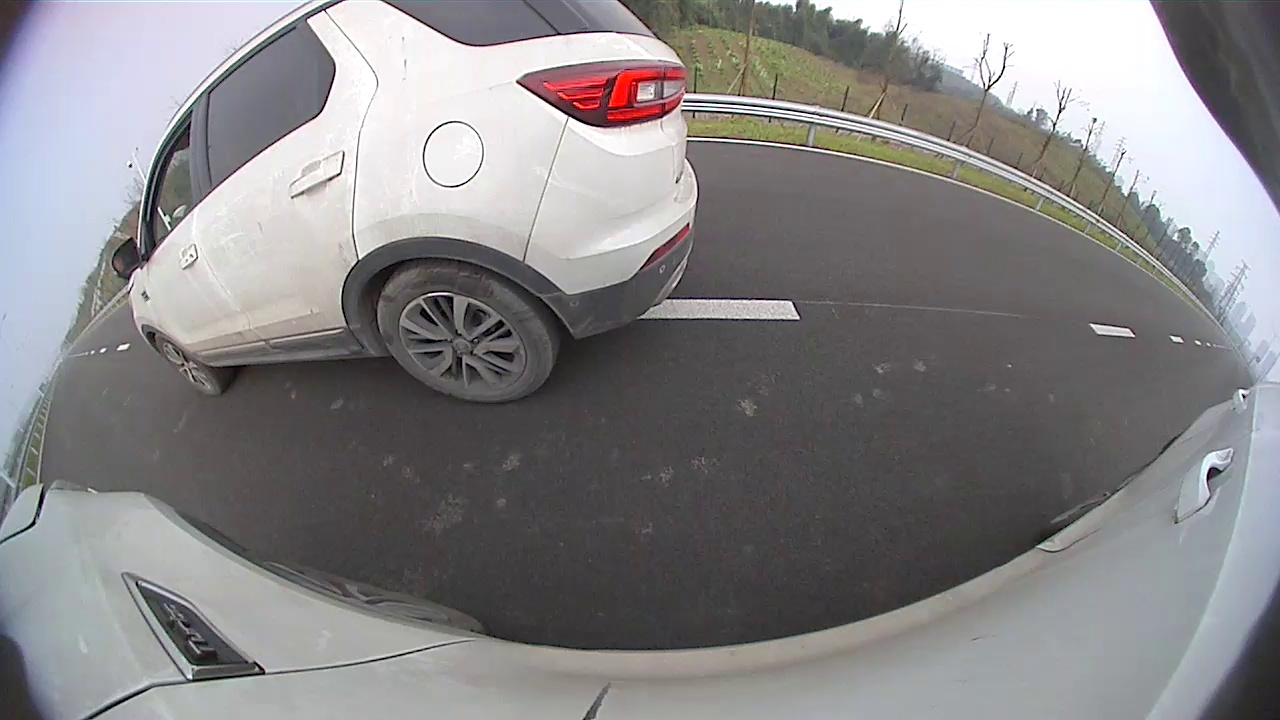car: (110, 1, 698, 404)
front: (157, 332, 221, 398)
rear: (378, 265, 553, 401)
